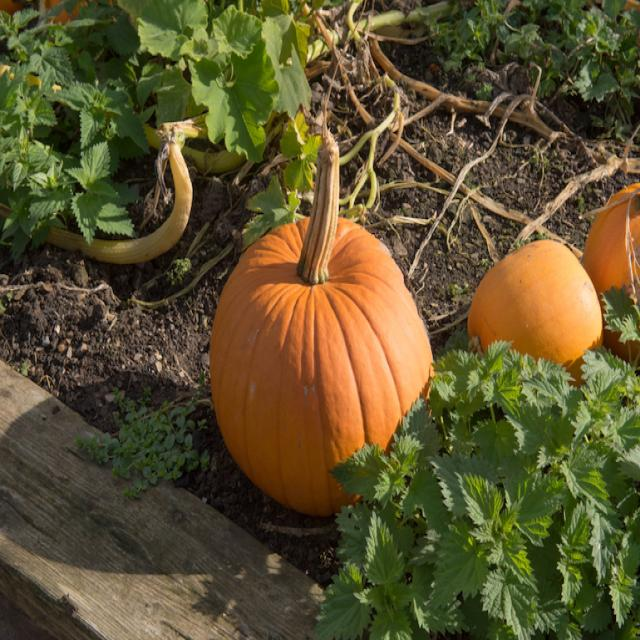pumpkin: (210, 125, 432, 516), (468, 240, 602, 386), (582, 184, 640, 302), (604, 331, 635, 360)
